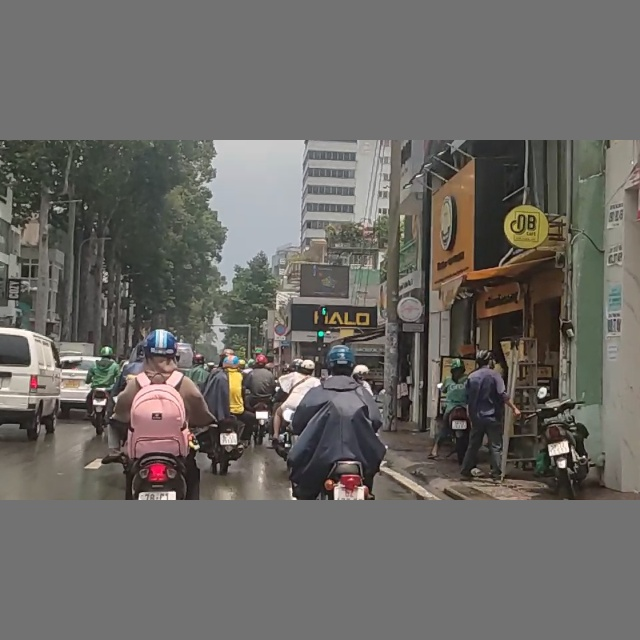P.131a: (273, 323, 287, 335)
